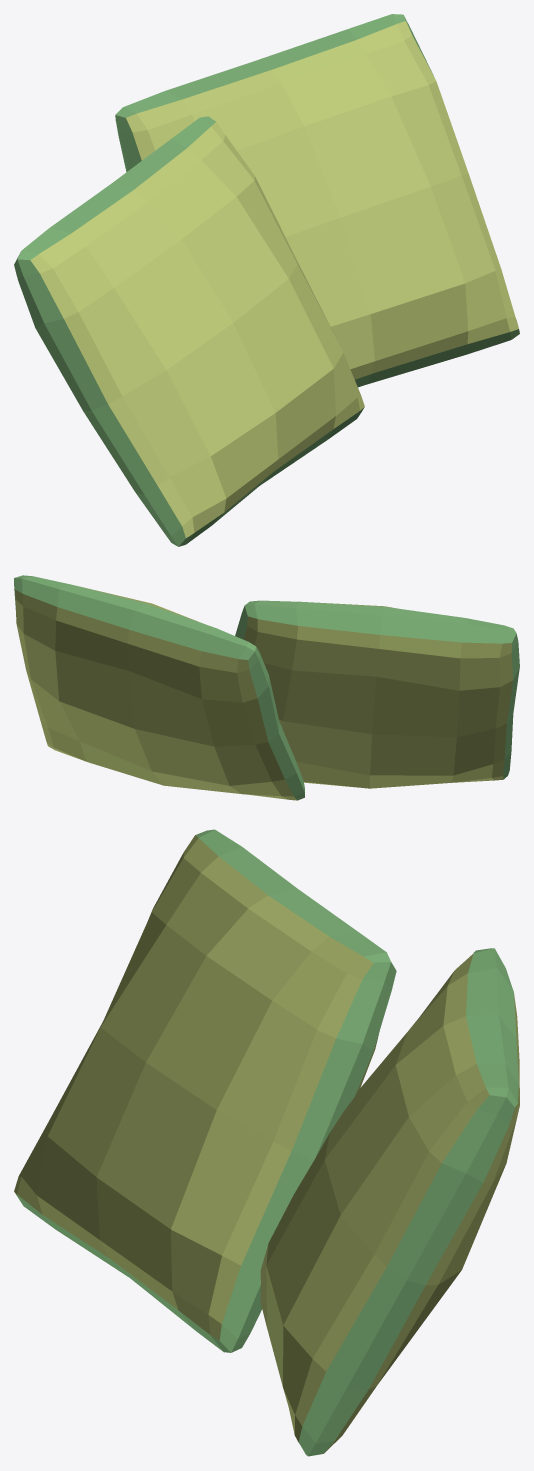
File: Sofa V2 Cushions.fbx
The picture shows the model from 3 angles, top to bottom: view 1: azimuth 30°, elevation 25°; view 2: azimuth 150°, elevation 25°; view 3: azimuth 270°, elevation 25°; orthographic projection. The views are drawn at different scales.
Parts seen in each view (by area): view 1: Sofa V2 Cushions; view 2: Sofa V2 Cushions; view 3: Sofa V2 Cushions.
Boxes of the visible parts, bbox=[...] form: Sofa V2 Cushions: bbox=[14, 14, 519, 546]; Sofa V2 Cushions: bbox=[14, 575, 519, 800]; Sofa V2 Cushions: bbox=[14, 829, 519, 1456].
Size of the model in its own units: 148 by 75.72 by 95.49.
